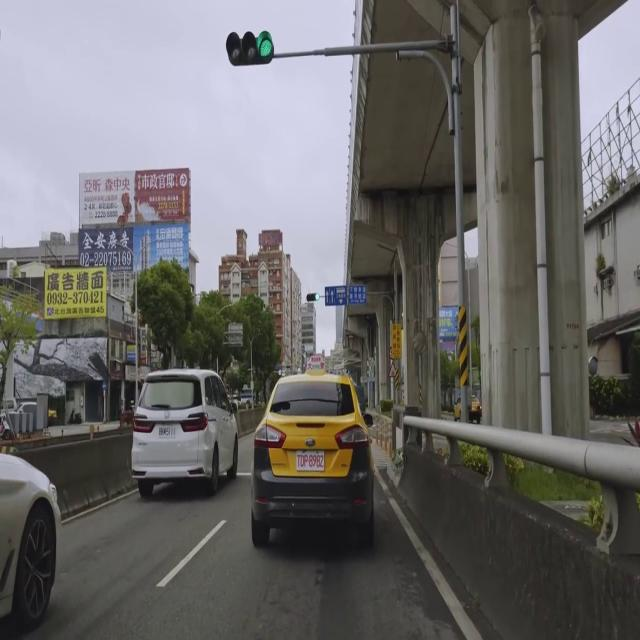green light: (224, 32, 274, 59), (306, 292, 320, 302)
